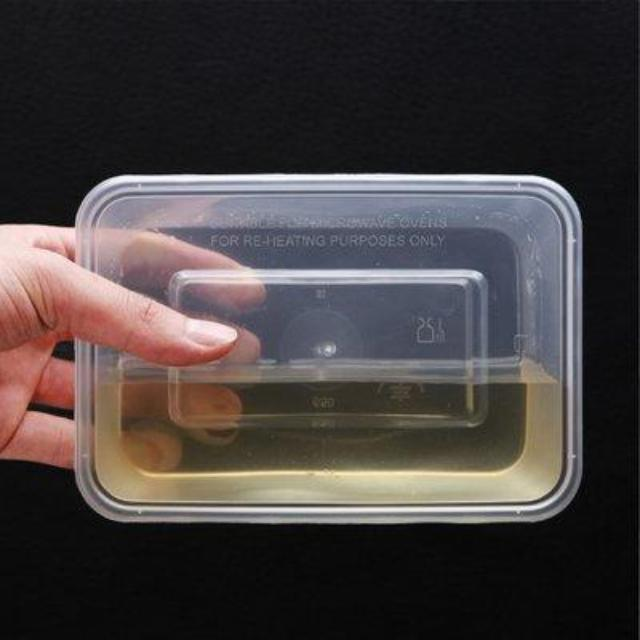plastic_box: (68, 166, 590, 526)
